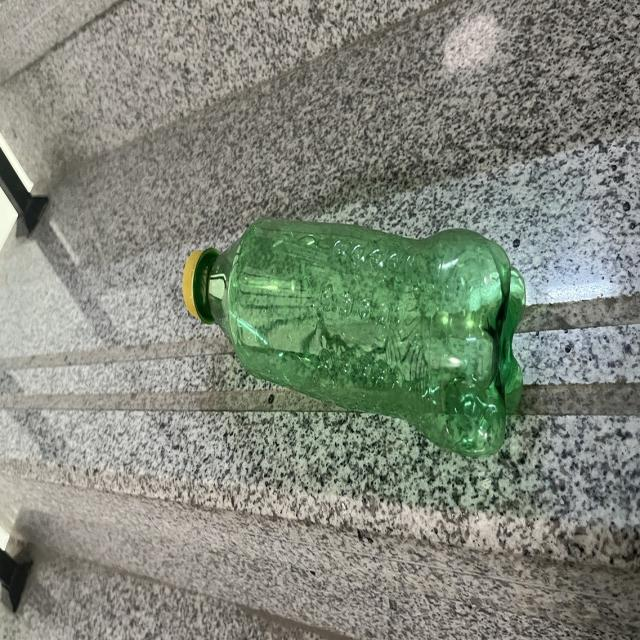empty: (183, 218, 525, 456)
